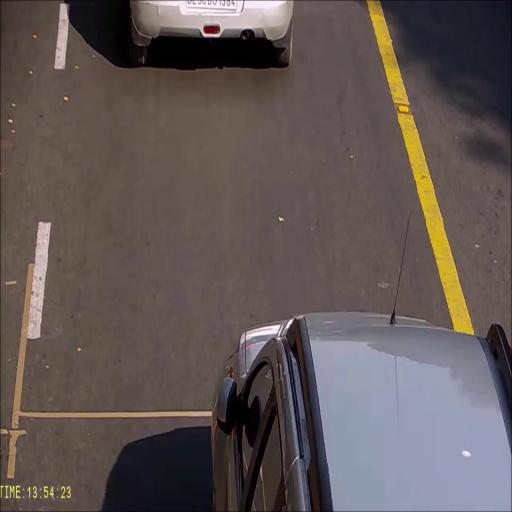License plate: (185, 0, 236, 10)
Vehicle: (211, 310, 511, 512), (129, 0, 294, 69)
